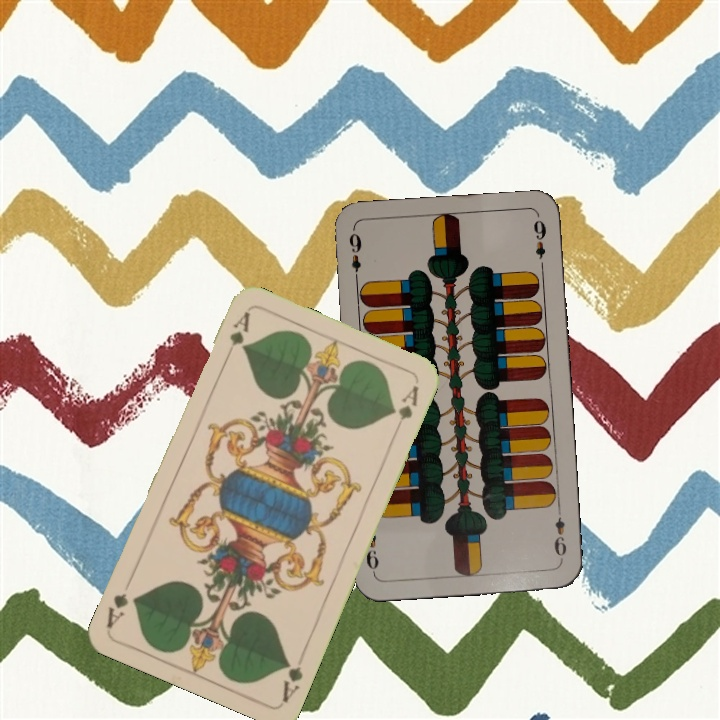E9: (345, 229, 364, 286), (550, 513, 569, 563)
GA: (220, 308, 253, 364), (278, 656, 306, 704)
